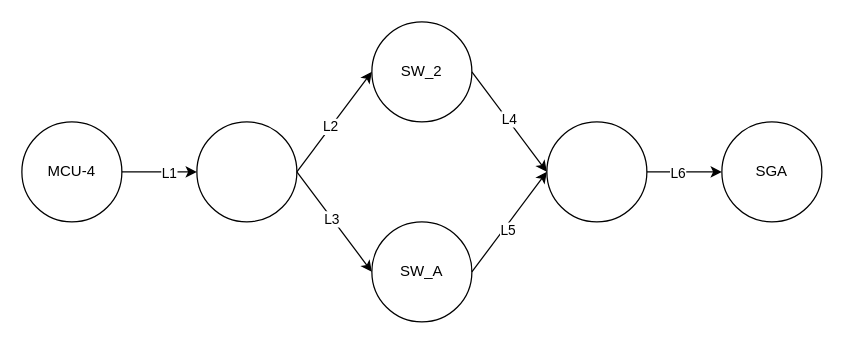
This 844x344 diagram has some shape labels left out. Here are the shapes that lost their labels. From the top down, the centre of each, then its label:
point 246,171: SW_4
point 596,171: SW_B
